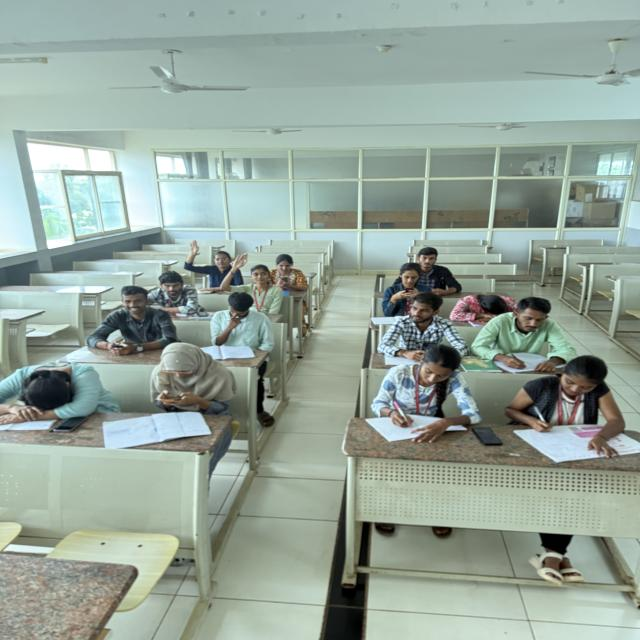Hand Rising: (179, 236, 243, 289), (220, 250, 280, 305)
Sleeping: (0, 352, 124, 425)
Using Phone: (143, 340, 250, 420), (88, 283, 174, 357), (381, 264, 438, 315)
Writing: (500, 352, 631, 448), (368, 344, 475, 432), (478, 292, 573, 368), (193, 293, 281, 358)
